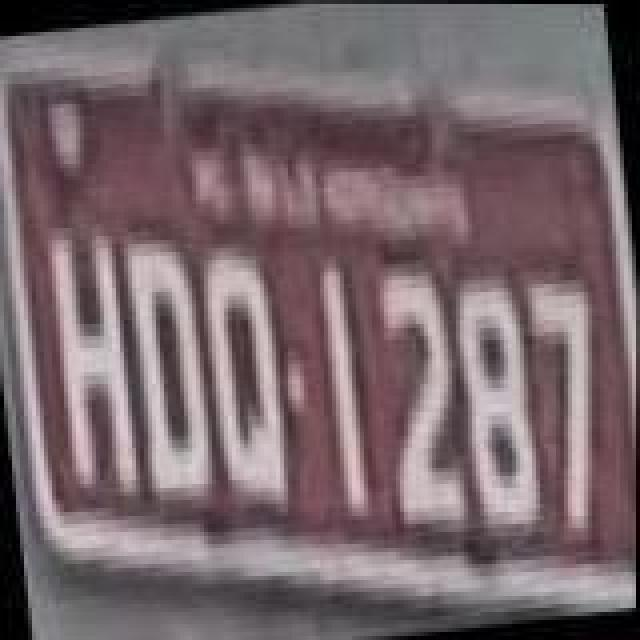1: (310, 260, 374, 528)
2: (366, 250, 478, 538)
7: (518, 262, 622, 538)
8: (446, 266, 550, 538)
D: (122, 226, 226, 514)
H: (42, 222, 146, 506)
Q: (194, 238, 298, 518)
